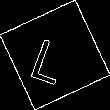L_N: (32, 26, 78, 84)
